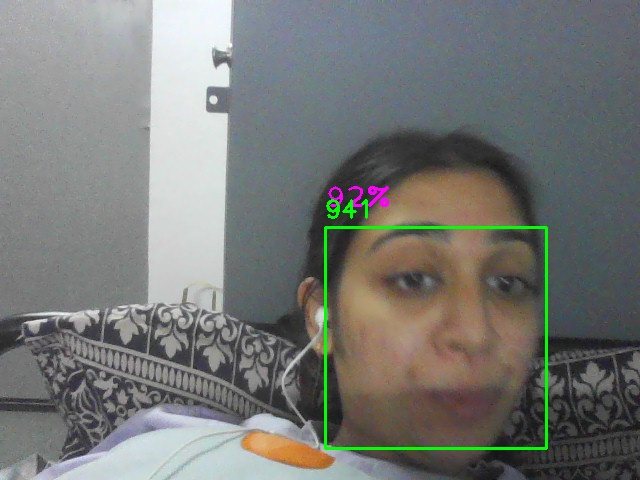real: (325, 227, 547, 449)
